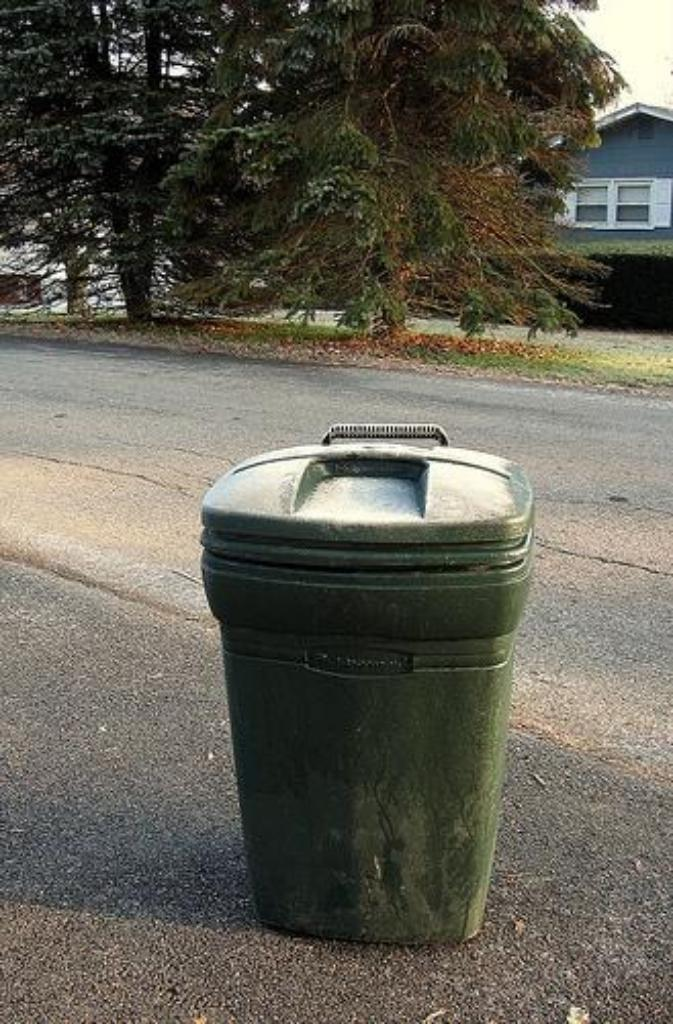dustbin: (196, 412, 552, 953)
